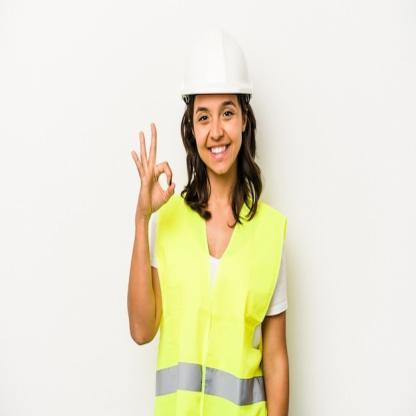ok: (130, 119, 178, 224)
